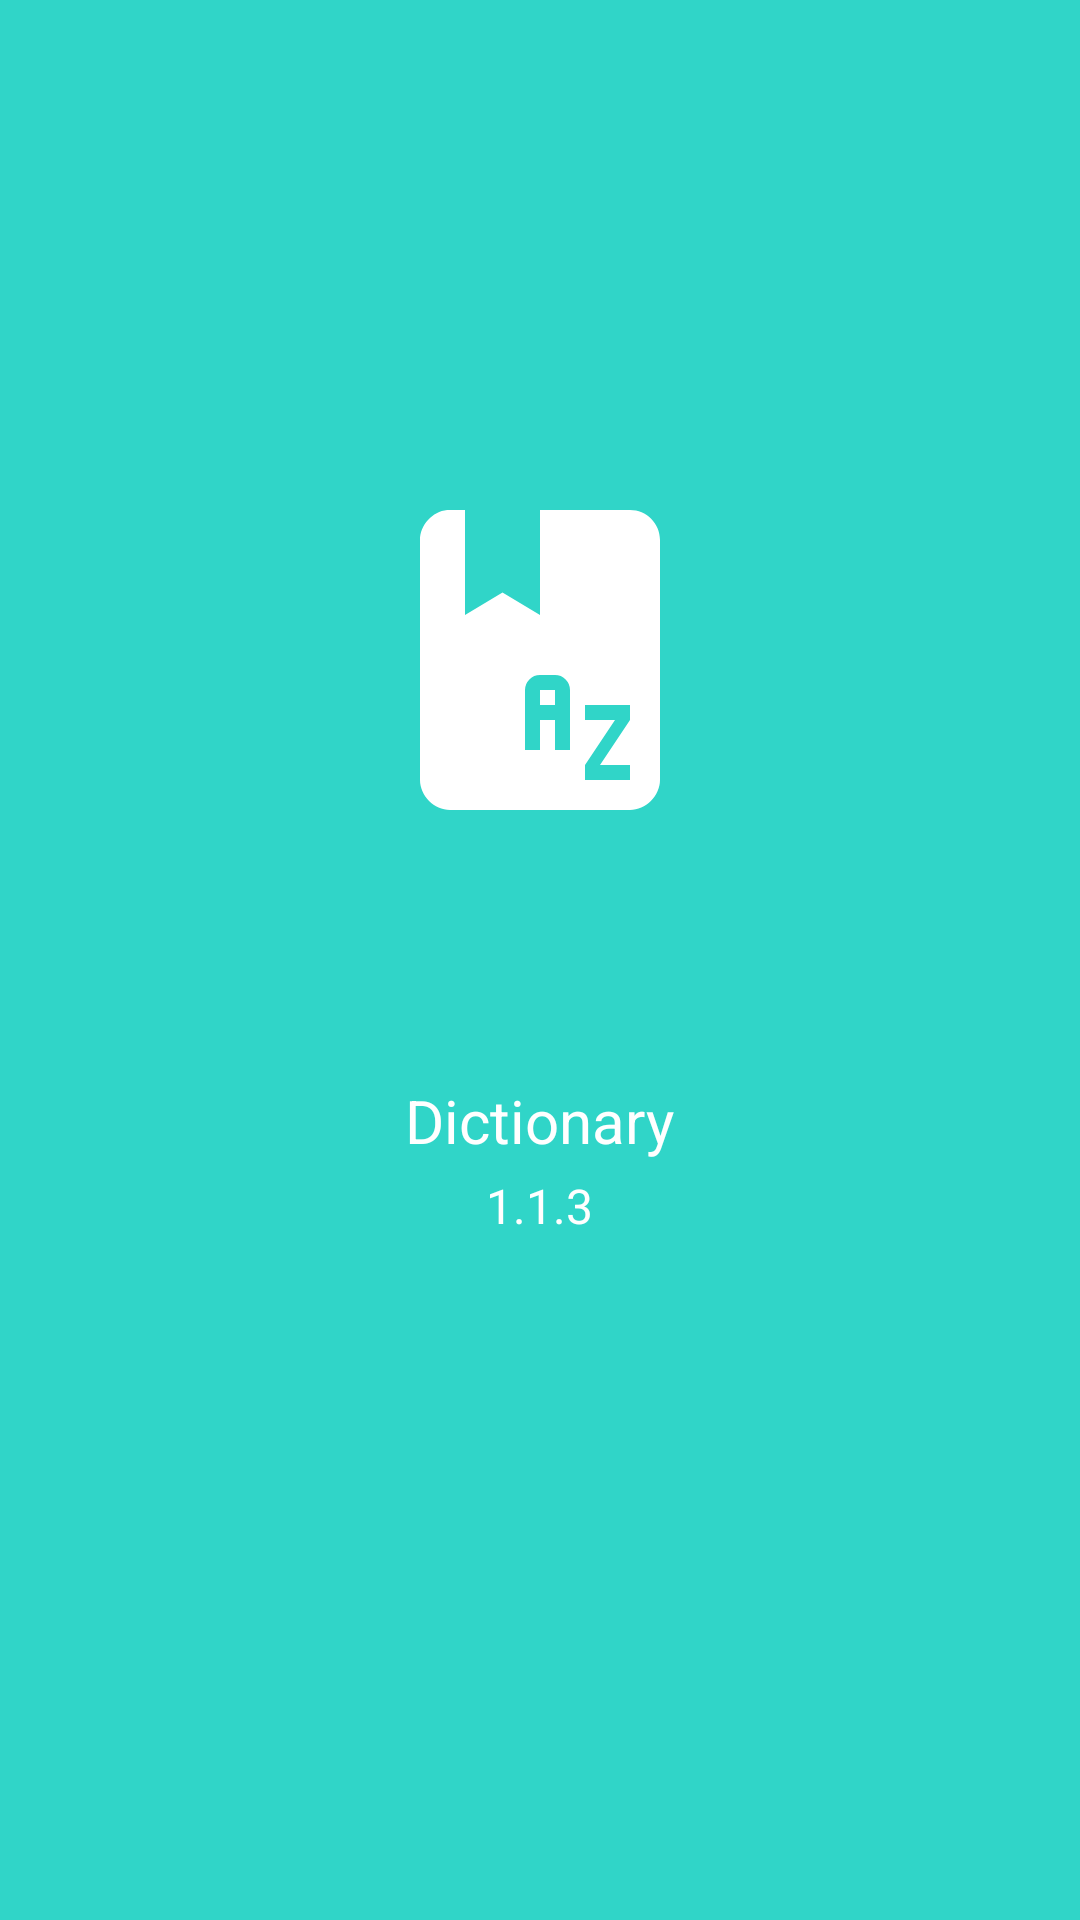

Where icons sit on this 1080×1920 app screen, as (x1,y1,x2,y2):
dictionary: (420,510,660,810)
